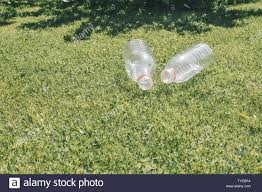plastic_bottle: (161, 40, 215, 93), (119, 34, 157, 94)
